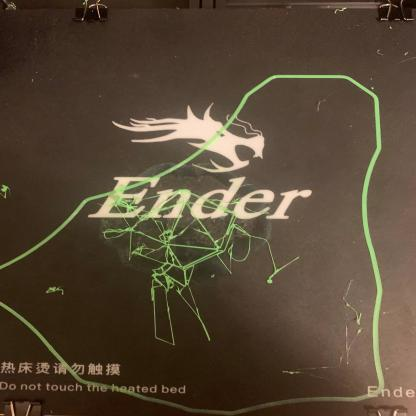fail: (116, 191, 311, 347)
